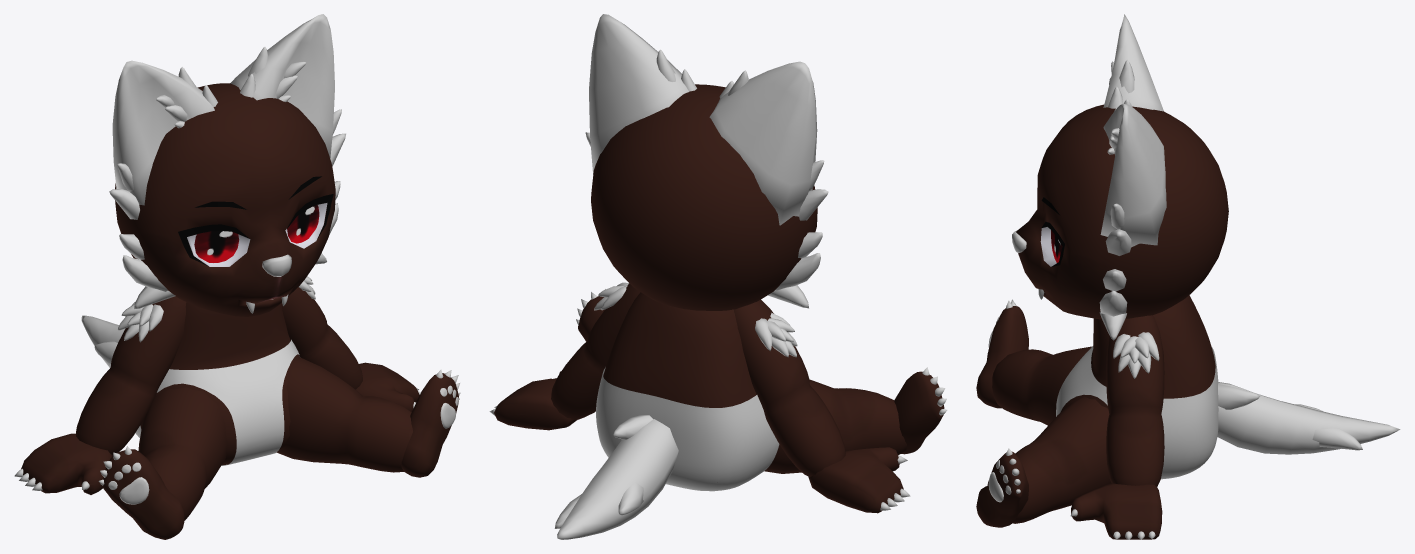
File: WerewolfBaby.fbx
The picture shows the model from 3 angles, left to right: view 1: azimuth 30°, elevation 25°; view 2: azimuth 150°, elevation 25°; view 3: azimuth 270°, elevation 25°; orthographic projection. The views are drawn at different scales.
Parts seen in each view (by area): view 1: Baby; view 2: Baby; view 3: Baby.
Boxes of the visible parts, bbox=[...] form: Baby: bbox=[14, 14, 460, 539]; Baby: bbox=[489, 14, 947, 539]; Baby: bbox=[976, 14, 1400, 539].
Size of the model in its own units: 402 by 410 by 388.
